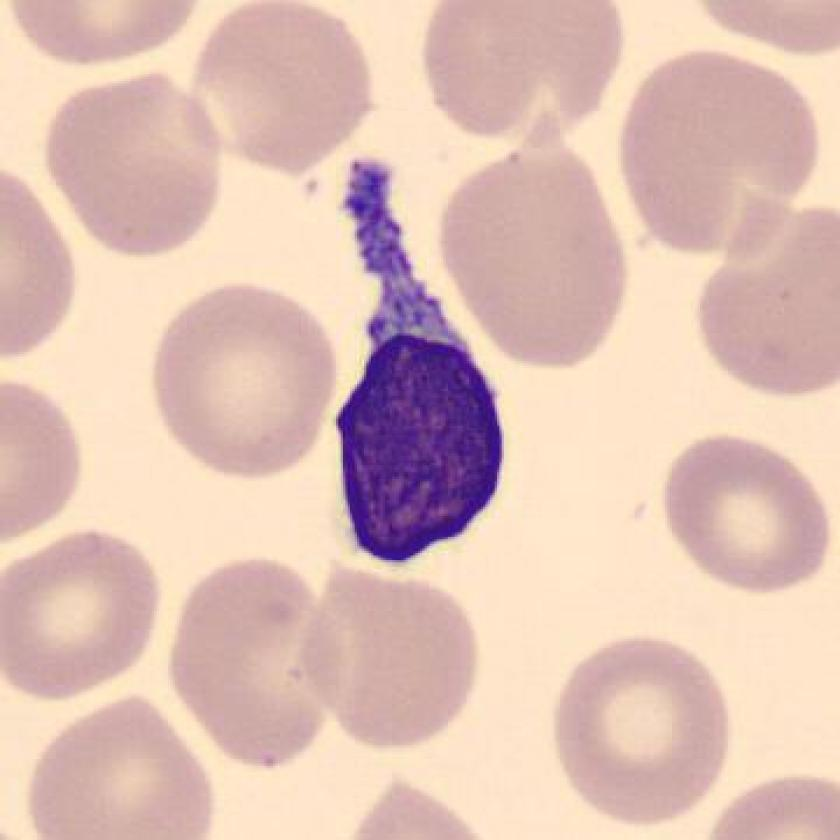lymphocyte: (302, 131, 521, 582)
